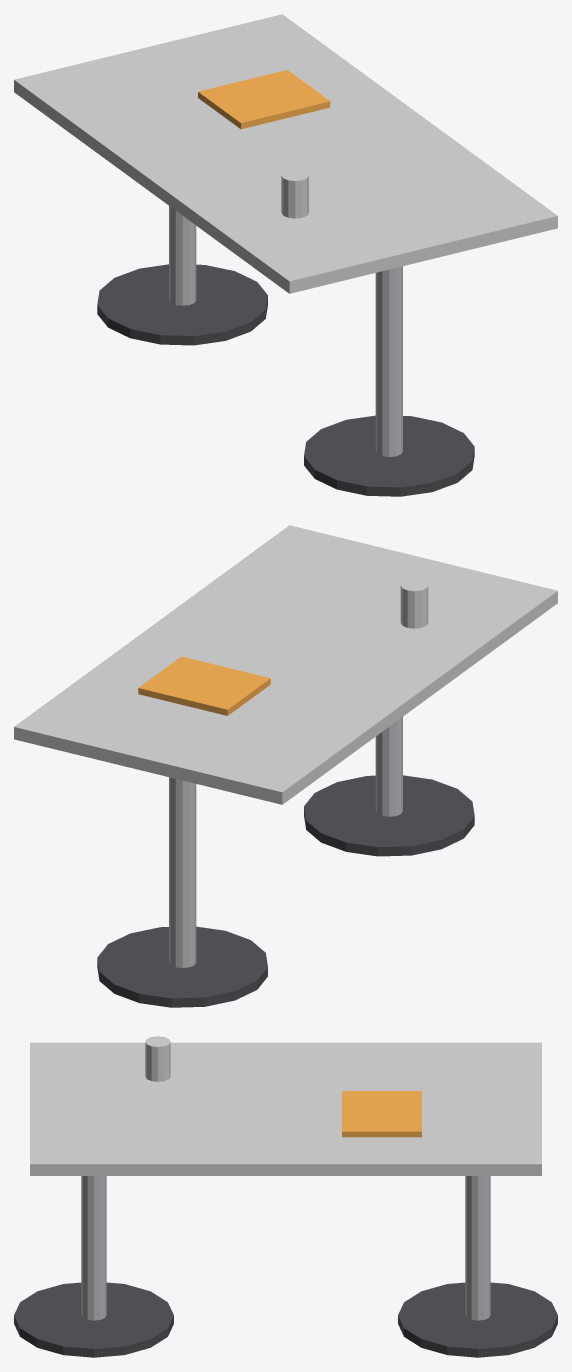
Rendered from SM_Prop_CafeTable.glb.
3 views of the same model, one above another, from view 1: azimuth 30°, elevation 25°; view 2: azimuth 150°, elevation 25°; view 3: azimuth 270°, elevation 25° (orthographic). The views are drawn at different scales.
Visible parts, largest first — view 1: SM_Prop_CafeTable; view 2: SM_Prop_CafeTable; view 3: SM_Prop_CafeTable.
Part boxes in pixels (<box>): SM_Prop_CafeTable: <box>14,14,557,496</box>; SM_Prop_CafeTable: <box>14,525,557,1007</box>; SM_Prop_CafeTable: <box>14,1036,557,1357</box>.
Size of the model in its own units: 0.9 by 0.88 by 1.7.
